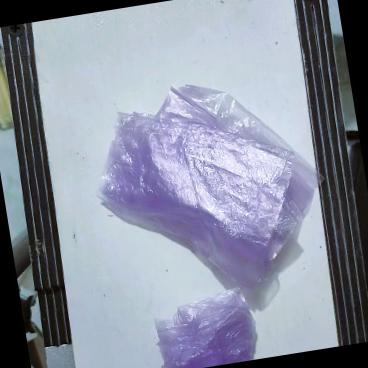Plastik: (82, 63, 338, 310), (148, 285, 262, 368)
